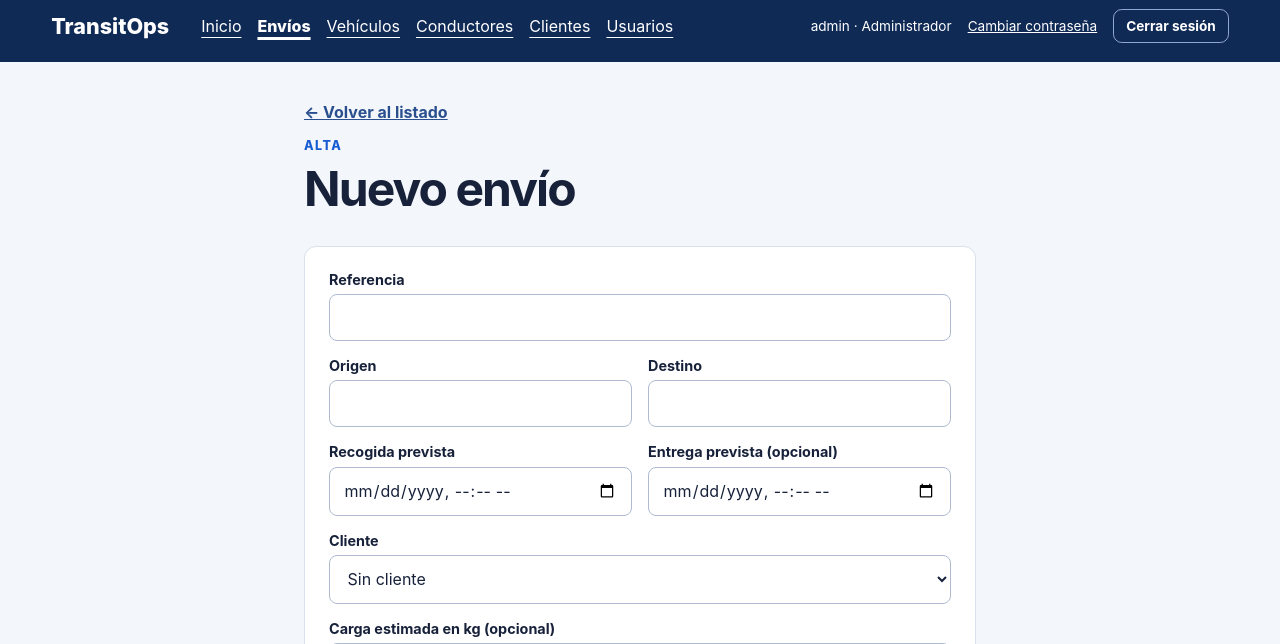
Test: envíos › shows a reference conflict globally and under the field
The image size is (1280, 644).
Type "ENV-001" into the field labelled "Referencia".
click(640, 317); type("ENV-001")  # box [329, 294, 951, 341]
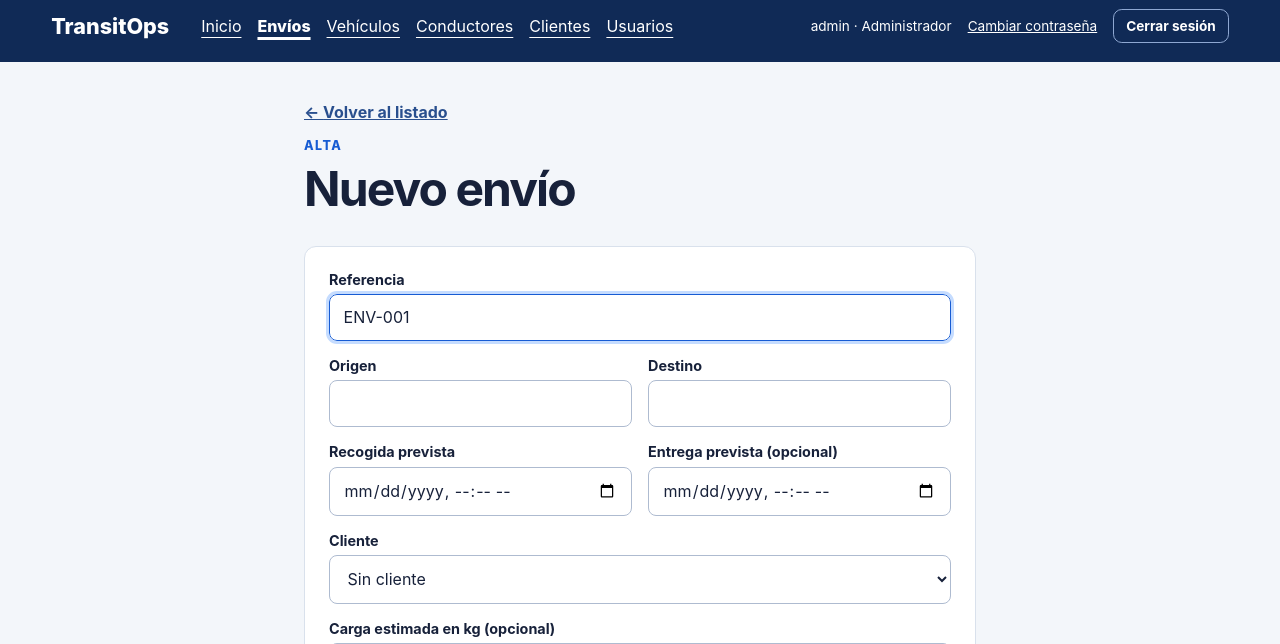
Type "Madrid" into the field labelled "Origen".
click(480, 404); type("Madrid")  # box [329, 380, 632, 427]
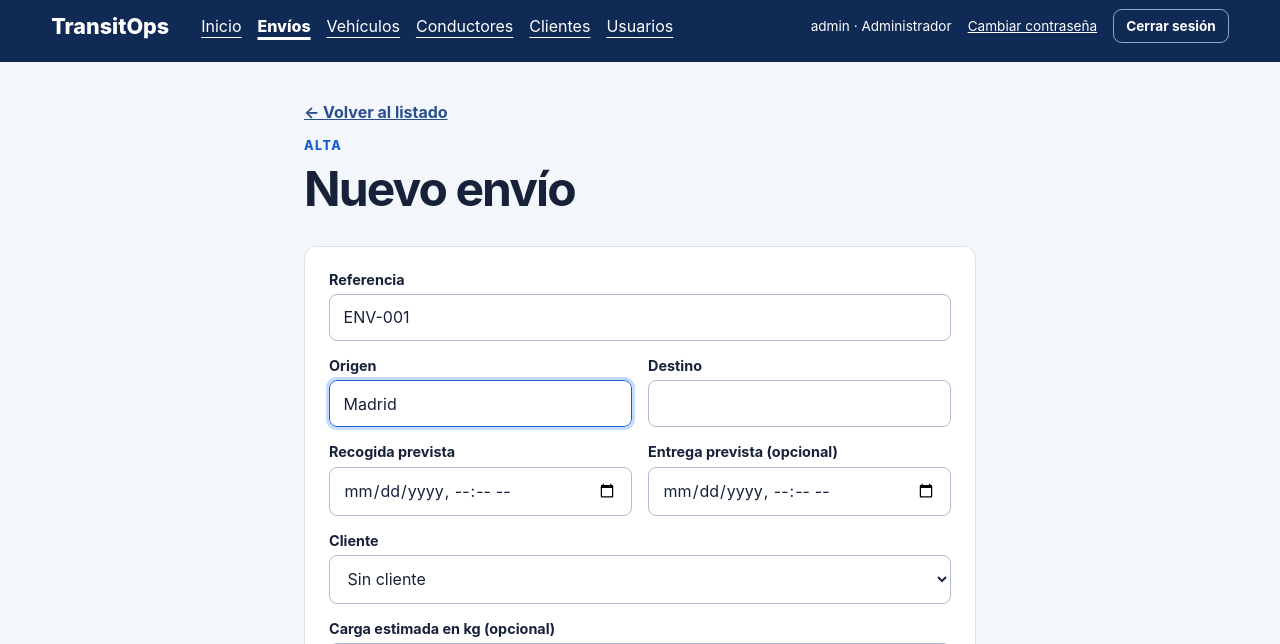
Type "Barcelona" into the field labelled "Destino".
click(800, 404); type("Barcelona")  # box [648, 380, 951, 427]
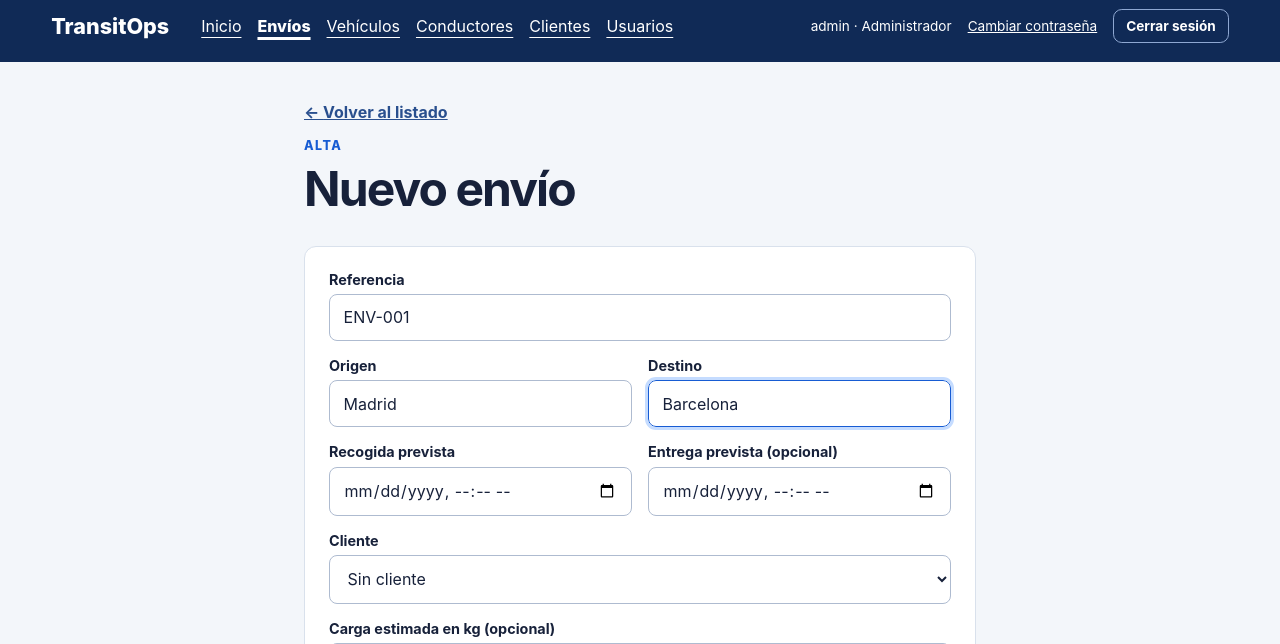
Type "2026-08-01T10:00" into the field labelled "Recogida prevista".
click(480, 491); type("2026-08-01T10:00")  # box [329, 467, 632, 516]
(page scrolled)
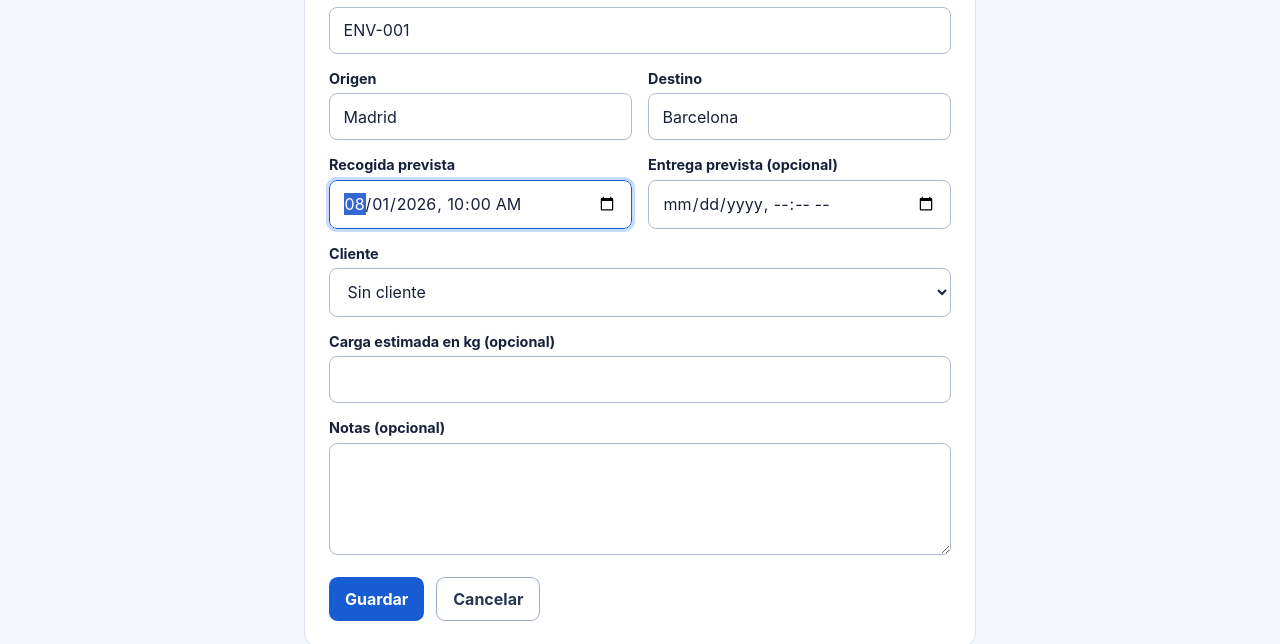
Click the button "Guardar".
click(377, 599)  # box [329, 577, 424, 621]
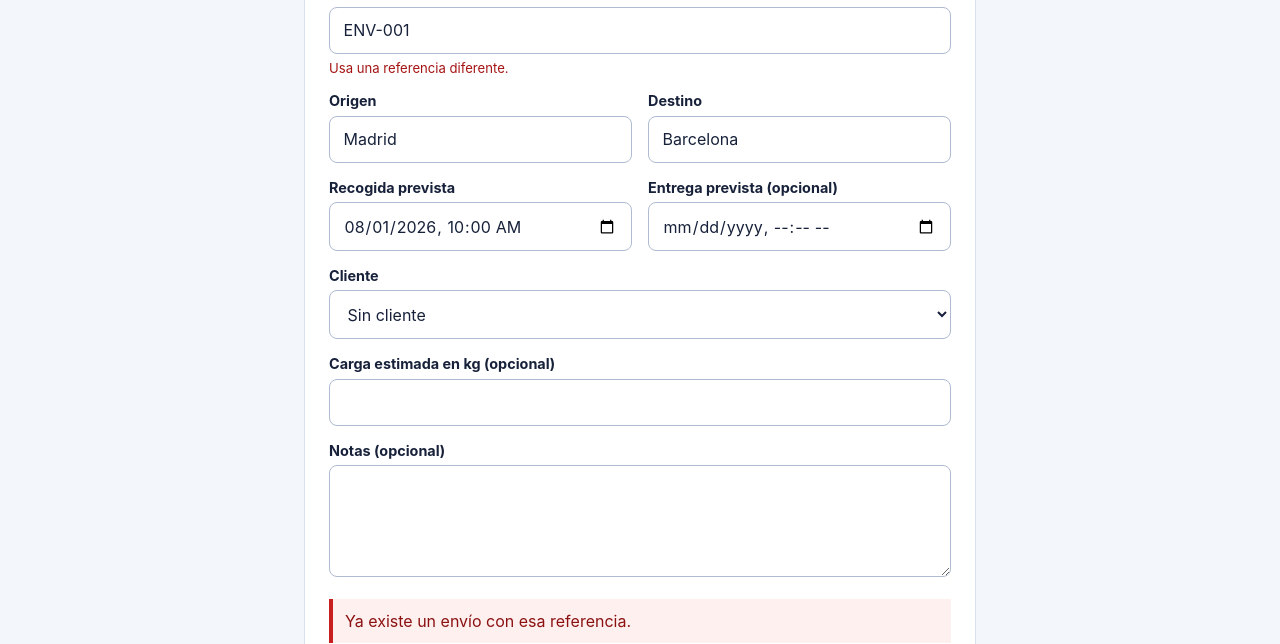
Now the message reads "Ya existe un envío con esa referencia.", box [345, 611, 631, 631]
Now the text "Usa una referencia diferente." is shown, box [329, 60, 509, 76]
